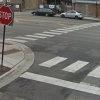Crosswalk: (14, 29, 96, 93)
